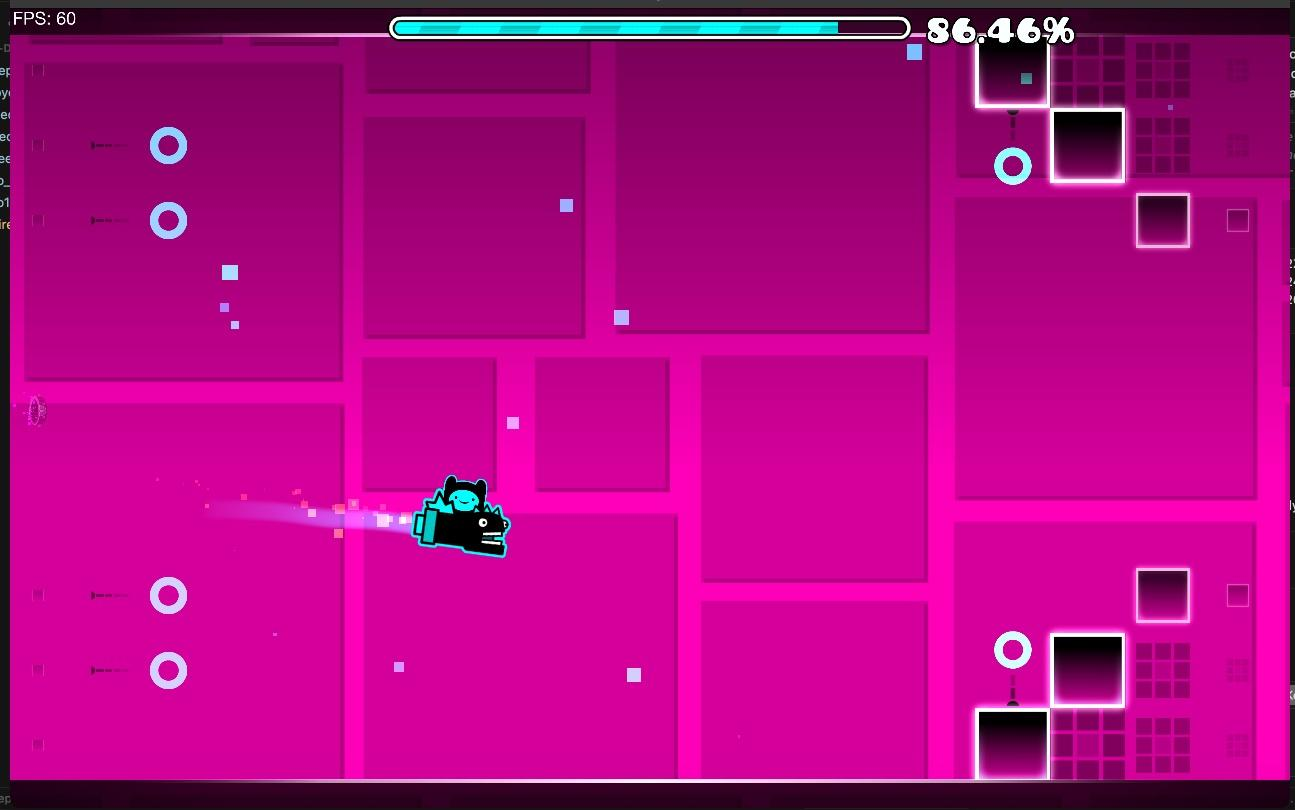spaceship: (411, 476, 510, 557)
